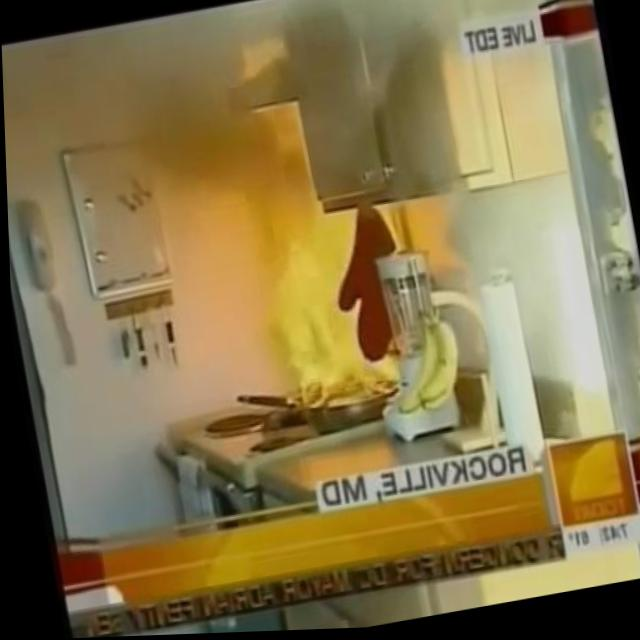fire: (215, 21, 420, 421)
